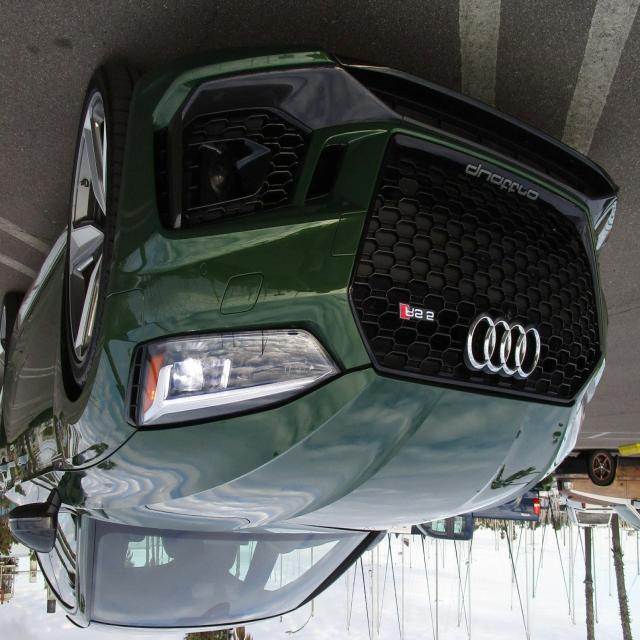green: (14, 34, 619, 636)
